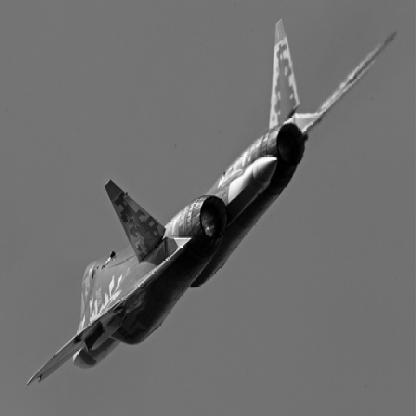Su57: (25, 17, 399, 389)
